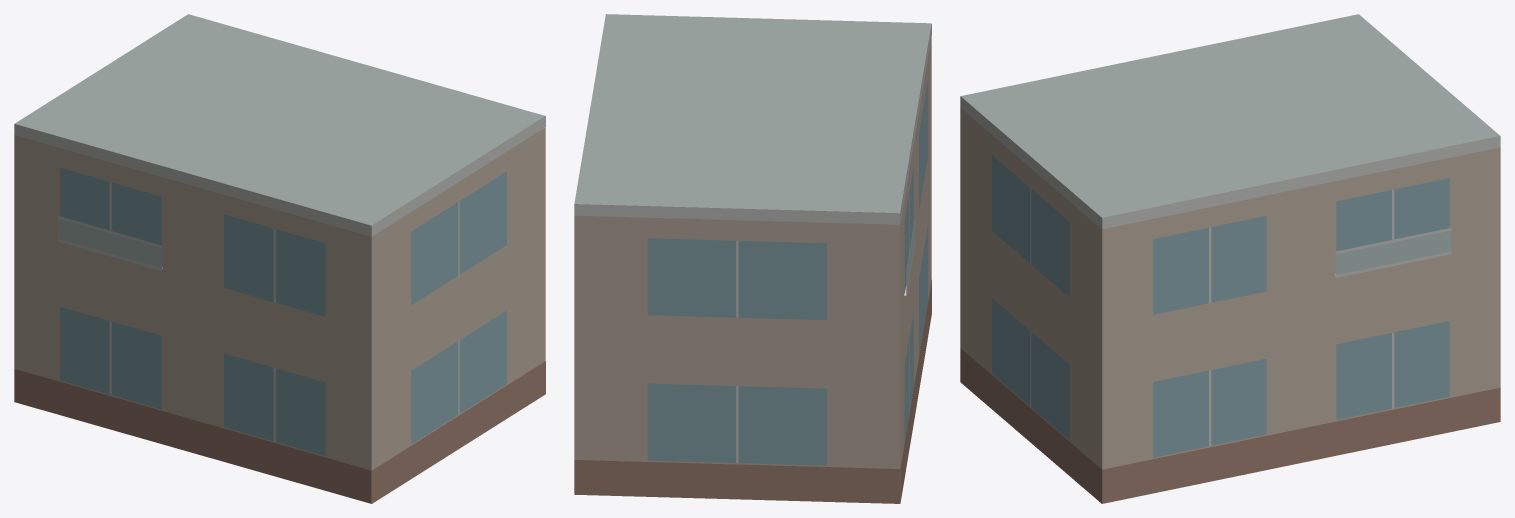
Rendered from survey-upis-32689458.glb.
3 renders of one model, left to right at view 1: azimuth 30°, elevation 25°; view 2: azimuth 150°, elevation 25°; view 3: azimuth 270°, elevation 25°, orthographic. The views are drawn at different scales.
Parts seen in each view (by area): view 1: survey-upis-32689458.tmp; view 2: survey-upis-32689458.tmp; view 3: survey-upis-32689458.tmp.
Boxes of the visible parts, x1=… form: survey-upis-32689458.tmp: x1=14, y1=14, x2=545, y2=503; survey-upis-32689458.tmp: x1=574, y1=14, x2=931, y2=503; survey-upis-32689458.tmp: x1=960, y1=14, x2=1500, y2=503.
Bounding box in the file's own units: 9.34 × 6.1 × 10.45.
